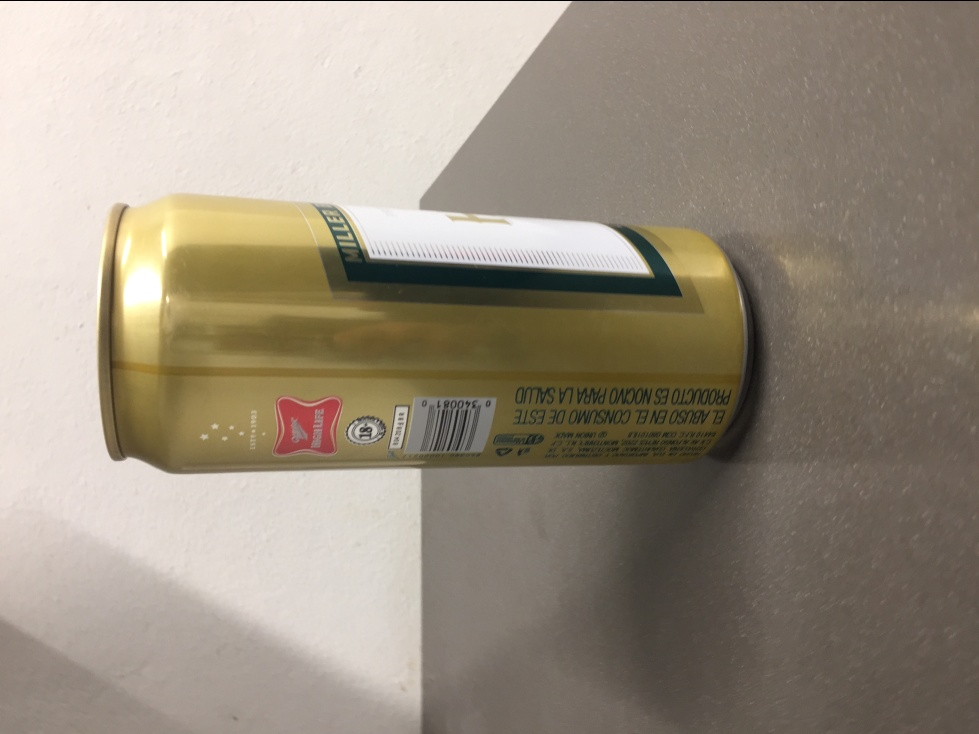miller: (90, 190, 751, 476)
